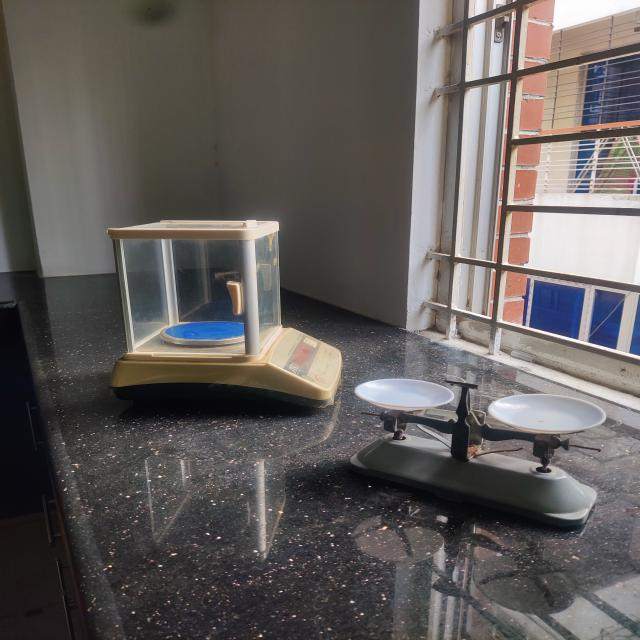Mechanical_Balance_Scale: (320, 334, 632, 554)
Precision_Weight_Scale: (75, 190, 357, 438)
